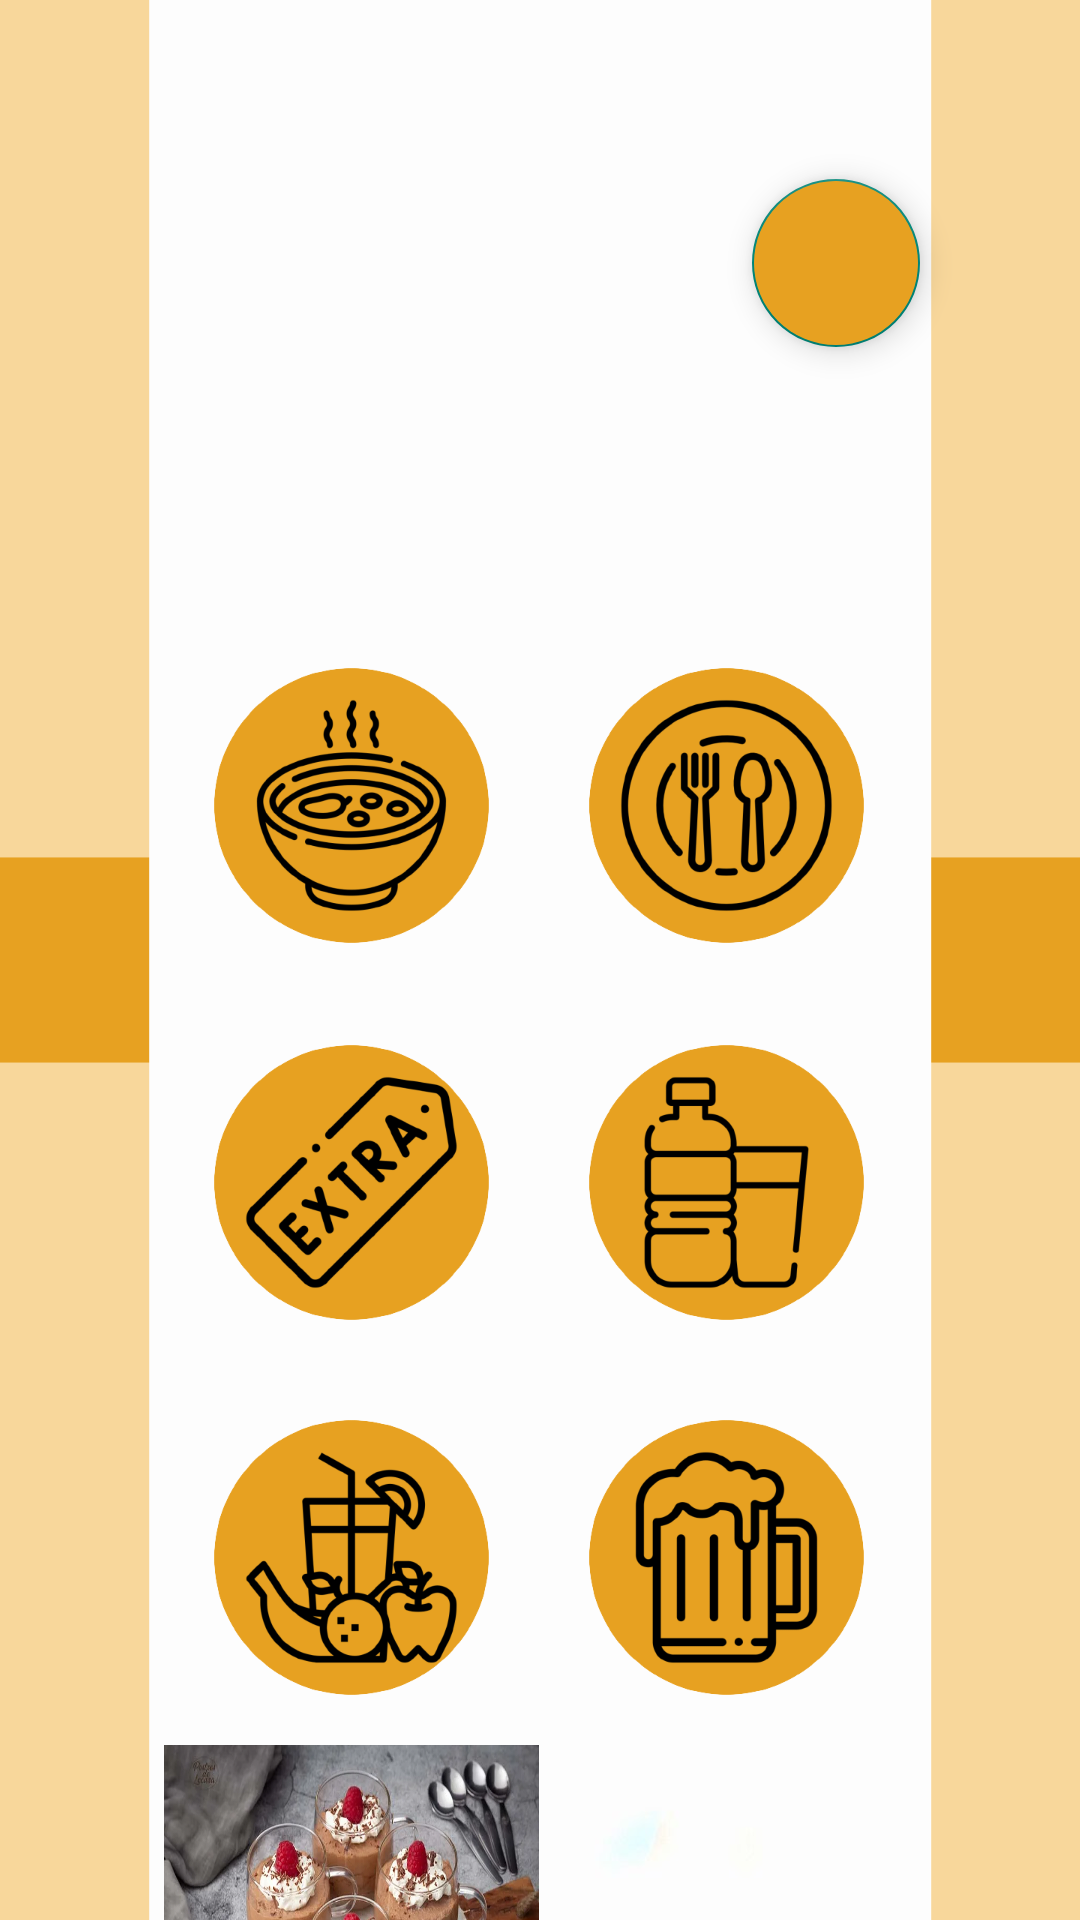

Icon click points for this 1080 x 1920 phone screenshot, format (x,y):
cervezas: (726,1557)
gaseosas: (726,1182)
refrescos: (351,1557)
segundo: (726,805)
sopa: (351,805)
